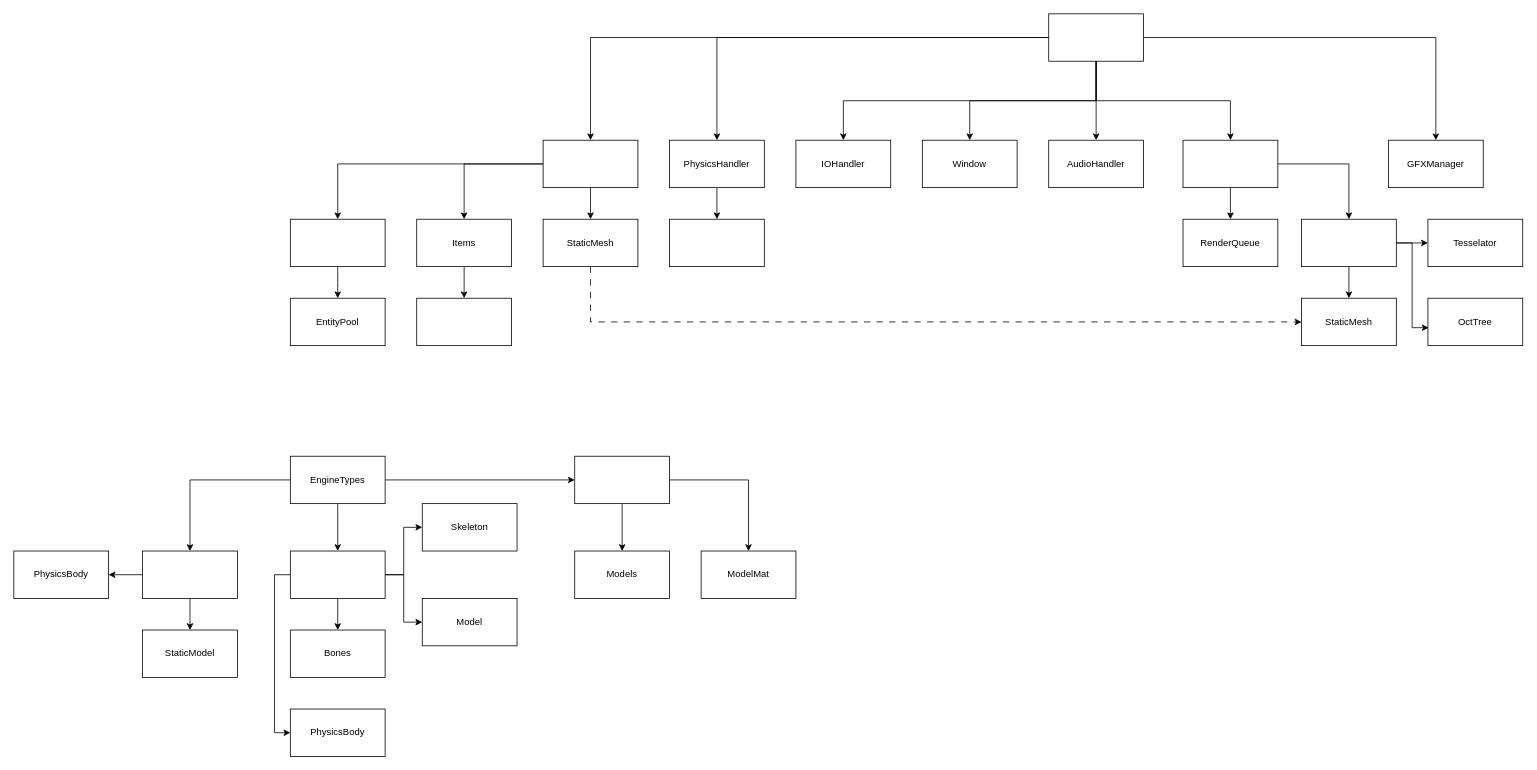
Image size: 1537x770. Some labels were removed from this diagram. The shapes that lost their labels are listed below. From the top down, each one's box as (x1, y1, x2, y2) in pixels, then its label:
(1048, 13, 1144, 61): Engine
(542, 139, 638, 188): World
(1182, 139, 1278, 188): Renderer
(290, 218, 385, 267): Entities
(669, 218, 764, 267): UpdateQueue
(1301, 218, 1396, 267): MeshRenderer
(416, 297, 512, 346): ItemPool
(574, 455, 670, 504): RenderObject
(142, 550, 237, 598): Item
(290, 550, 385, 598): Entity
